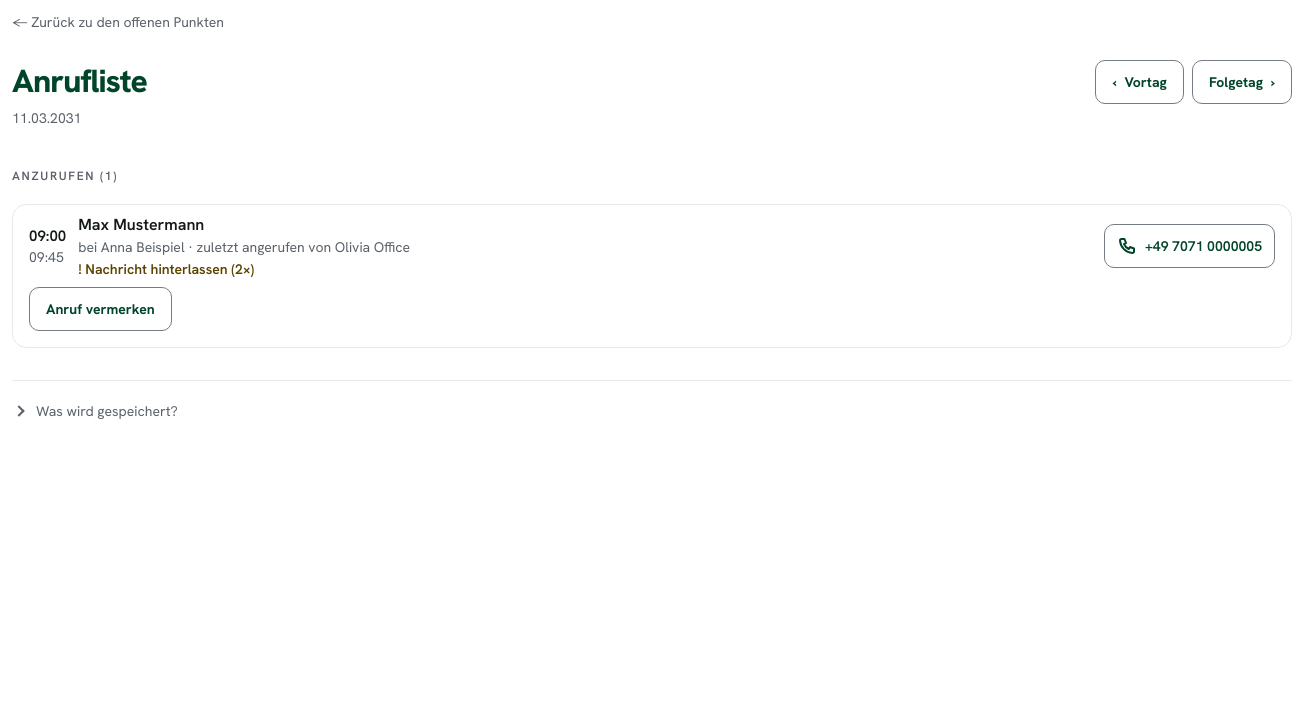
Test: Anrufliste (PRX-014) › zeigt den gespeicherten Stand mit Zahl der Versuche und bietet das Zuruecksetzen an
The width and height of the screenshot is (1304, 720).
Expected: the text "Nachricht hinterlassen (2×)" is shown, x1=78 y1=260 x2=254 y2=278
Expected: the text "zuletzt angerufen von Olivia Office" is shown, x1=78 y1=238 x2=410 y2=256
// Wer über den Hörer anruft, bekommt die Ausgänge gleich darunter.
Click the link named "Max Mustermann anrufen".
click(1190, 246)  # box x1=1104 y1=224 x2=1275 y2=268
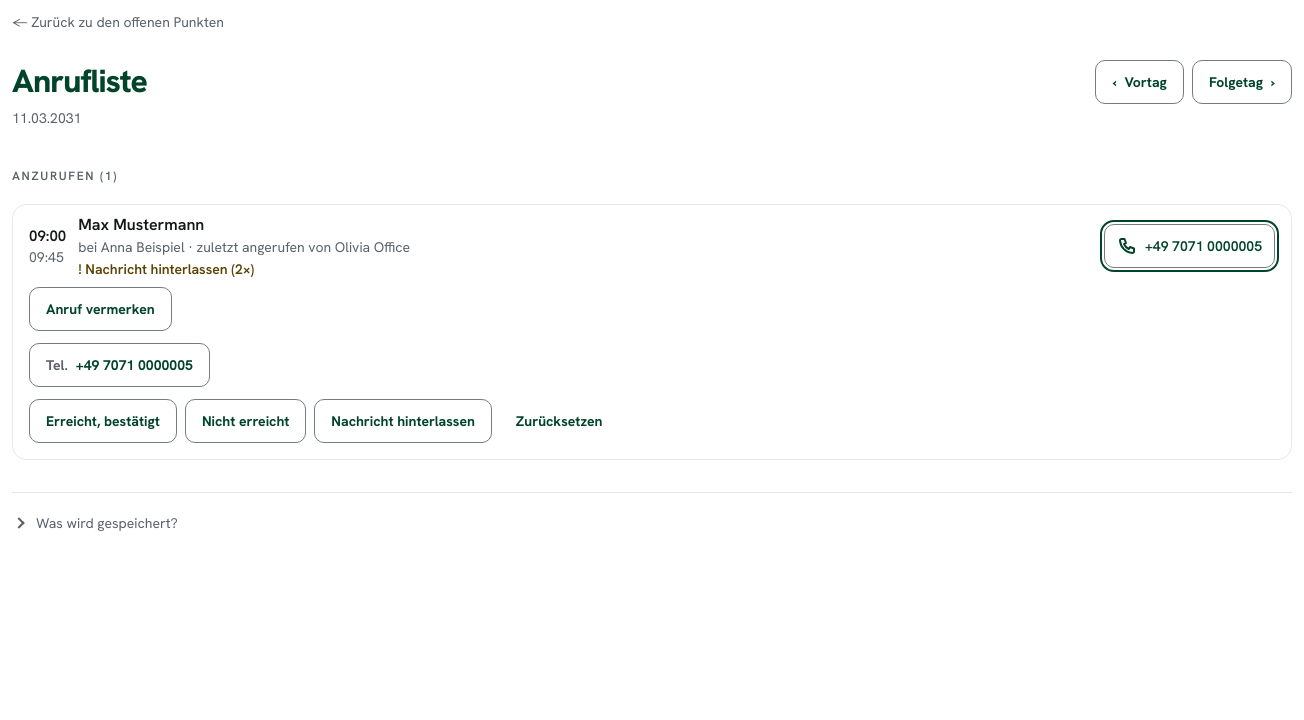
Result: the button "Zurücksetzen" is shown at x1=500 y1=399 x2=618 y2=443
